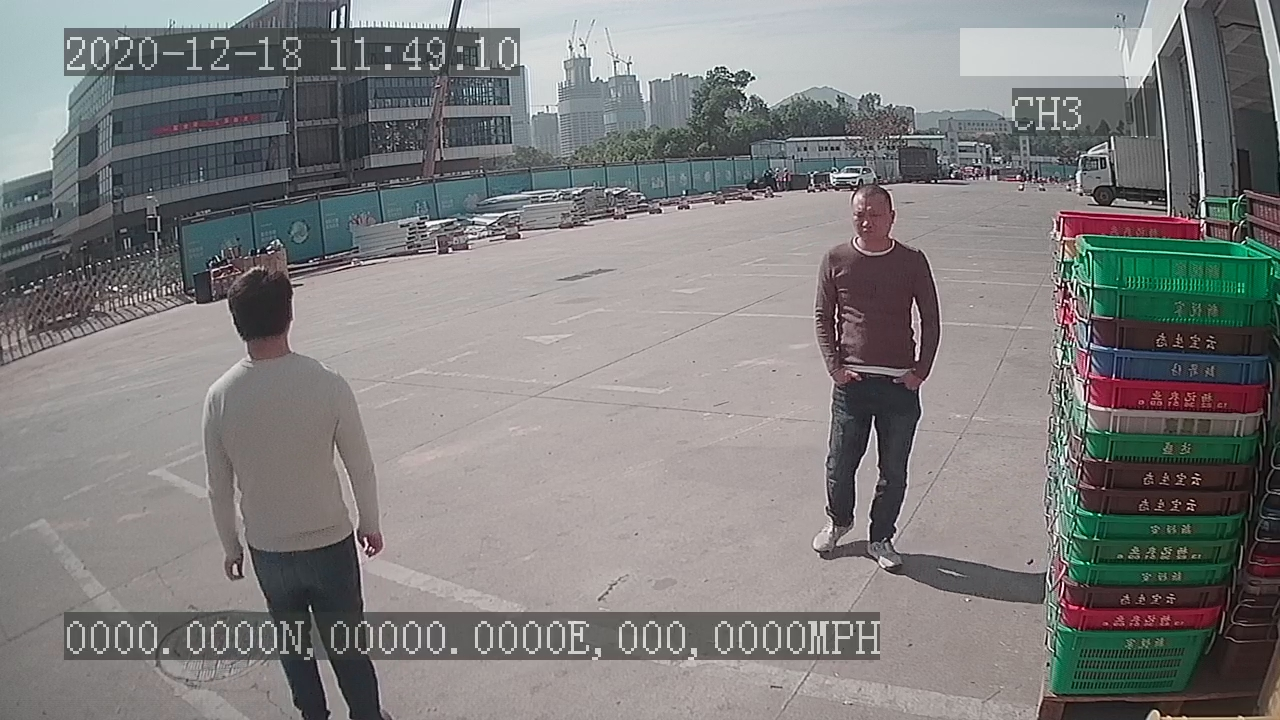person: (808, 179, 947, 570)
